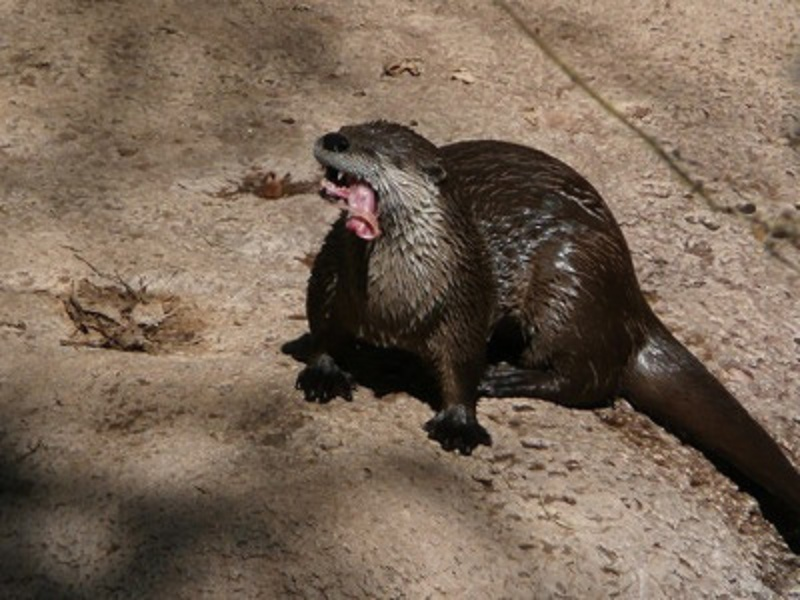minkish: (294, 116, 800, 539)
